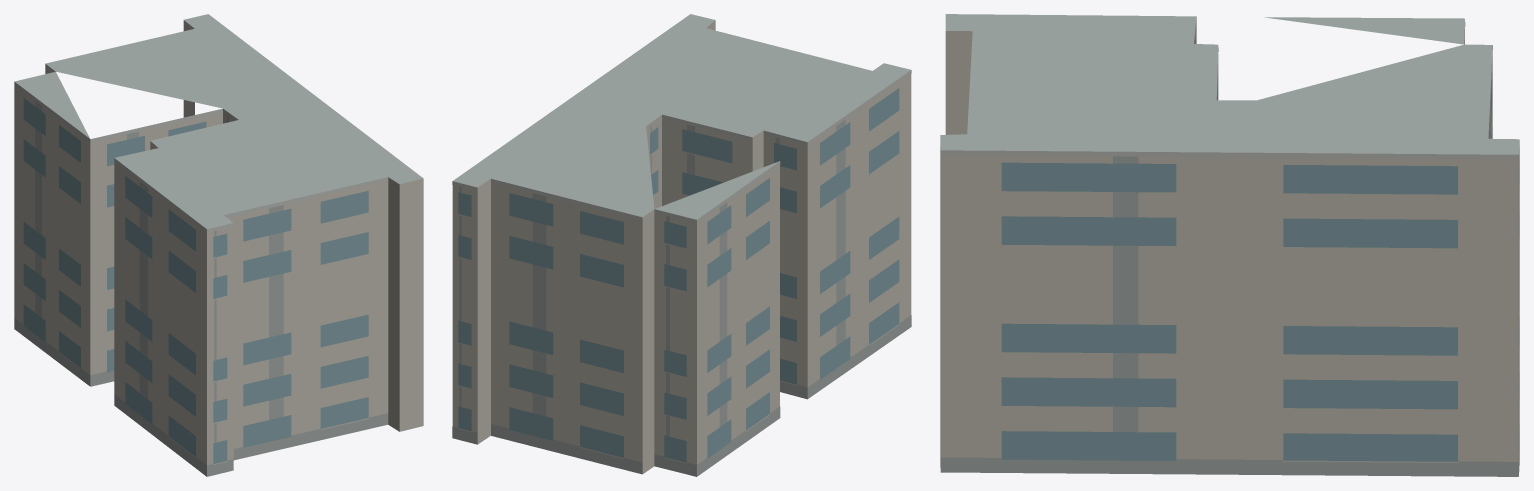
File: survey-upis-32635399.glb
The picture shows the model from 3 angles, left to right: view 1: azimuth 30°, elevation 25°; view 2: azimuth 150°, elevation 25°; view 3: azimuth 270°, elevation 25°; orthographic projection. The views are drawn at different scales.
Visible parts, largest first — view 1: survey-upis-32635399.tmp; view 2: survey-upis-32635399.tmp; view 3: survey-upis-32635399.tmp.
Boxes of the visible parts, box(x1,y1,x2,y2) form: survey-upis-32635399.tmp: box(14, 14, 423, 476); survey-upis-32635399.tmp: box(452, 14, 911, 476); survey-upis-32635399.tmp: box(940, 14, 1519, 476).
Bounding box in the file's own units: 15.71 × 16.75 × 27.3.
